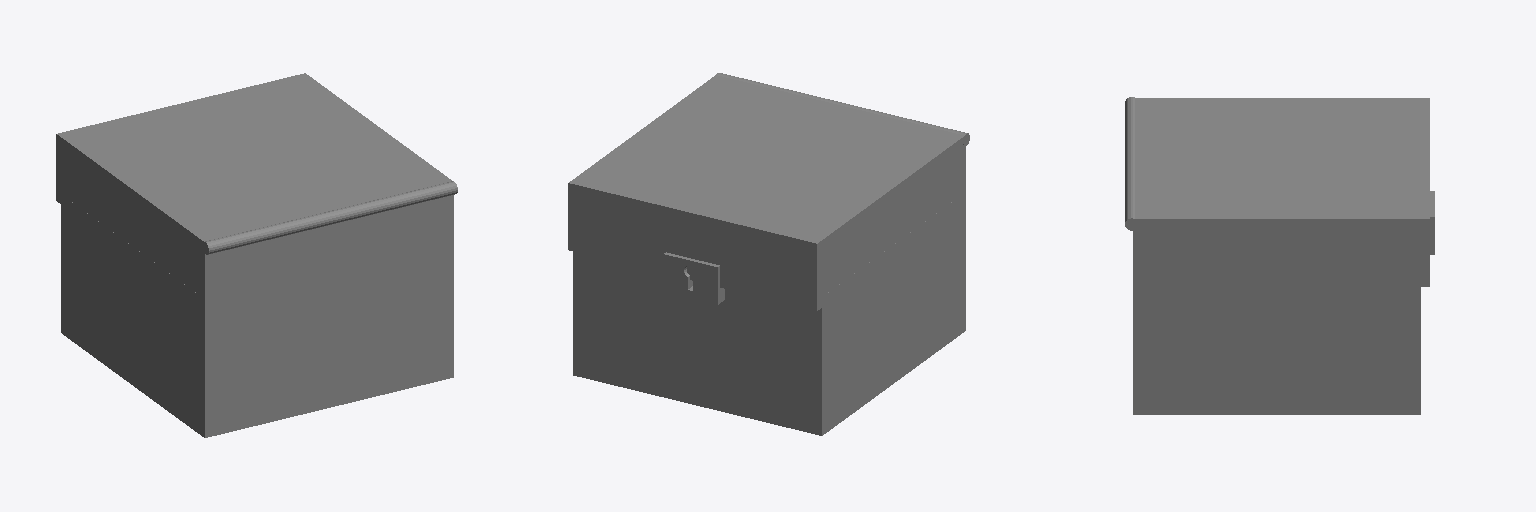
Rendered from BoxWithKeyHole.obj.
3 renders of one model, left to right at view 1: azimuth 30°, elevation 25°; view 2: azimuth 150°, elevation 25°; view 3: azimuth 270°, elevation 25°, orthographic.
Visible parts, largest first — view 1: Box002, Box001; view 2: Box002, Box001; view 3: Box002, Box001.
Part boxes in pixels (left/top/right/bottom): Box002: left=56, top=73, right=457, bottom=309; Box001: left=61, top=194, right=453, bottom=437; Box002: left=568, top=73, right=969, bottom=310; Box001: left=573, top=192, right=965, bottom=435; Box002: left=1125, top=97, right=1434, bottom=286; Box001: left=1133, top=287, right=1420, bottom=414.
Size of the model in its own units: 150 by 113 by 162.